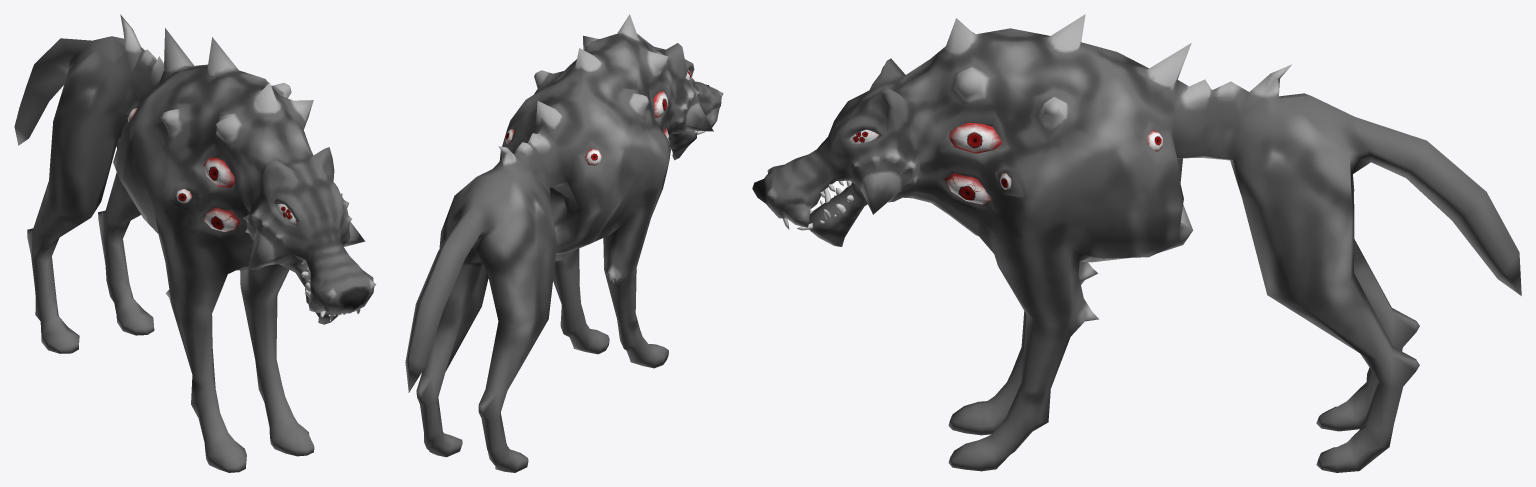
File: wolf_idle.fbx
3 views of the same model, side by side, from view 1: azimuth 30°, elevation 25°; view 2: azimuth 150°, elevation 25°; view 3: azimuth 270°, elevation 25° (orthographic). The views are drawn at different scales.
Parts seen in each view (by area): view 1: wolf__tooth_retopo; view 2: wolf__tooth_retopo; view 3: wolf__tooth_retopo.
Boxes of the visible parts, box(x1,y1,x2,y2) form: wolf__tooth_retopo: box(14, 14, 376, 472); wolf__tooth_retopo: box(405, 14, 723, 472); wolf__tooth_retopo: box(752, 14, 1521, 472).
Size of the model in its own units: 41.43 by 97.33 by 158.
